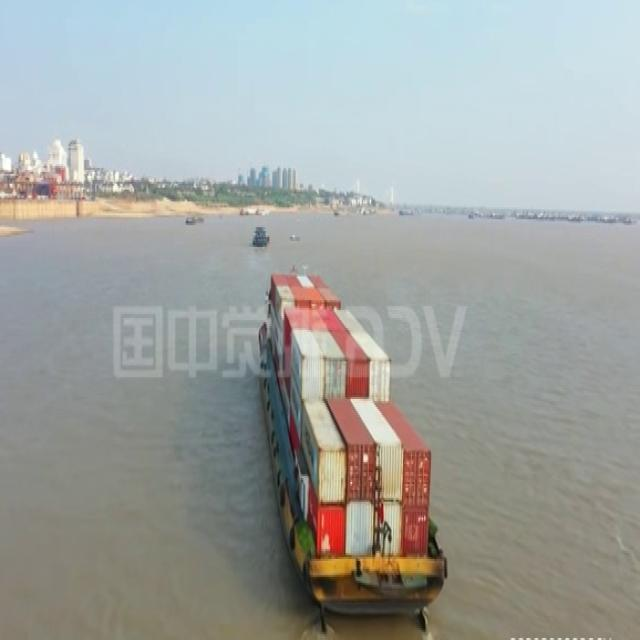cargoship: (259, 253, 446, 612)
